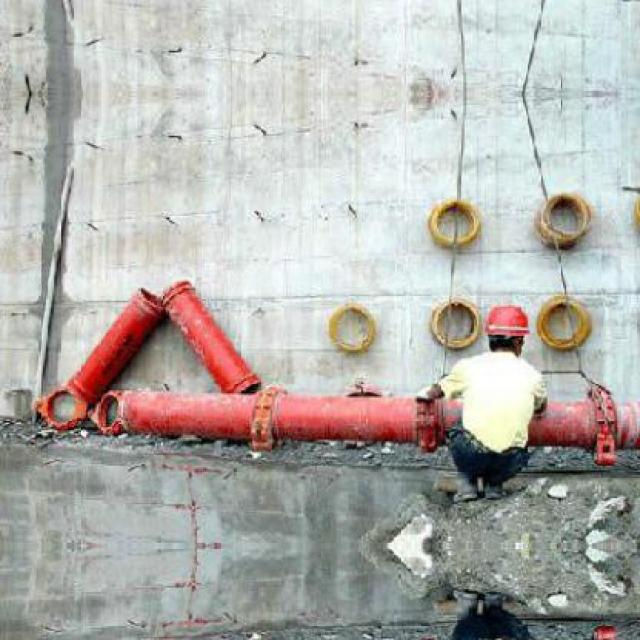helmet: (482, 301, 533, 358)
